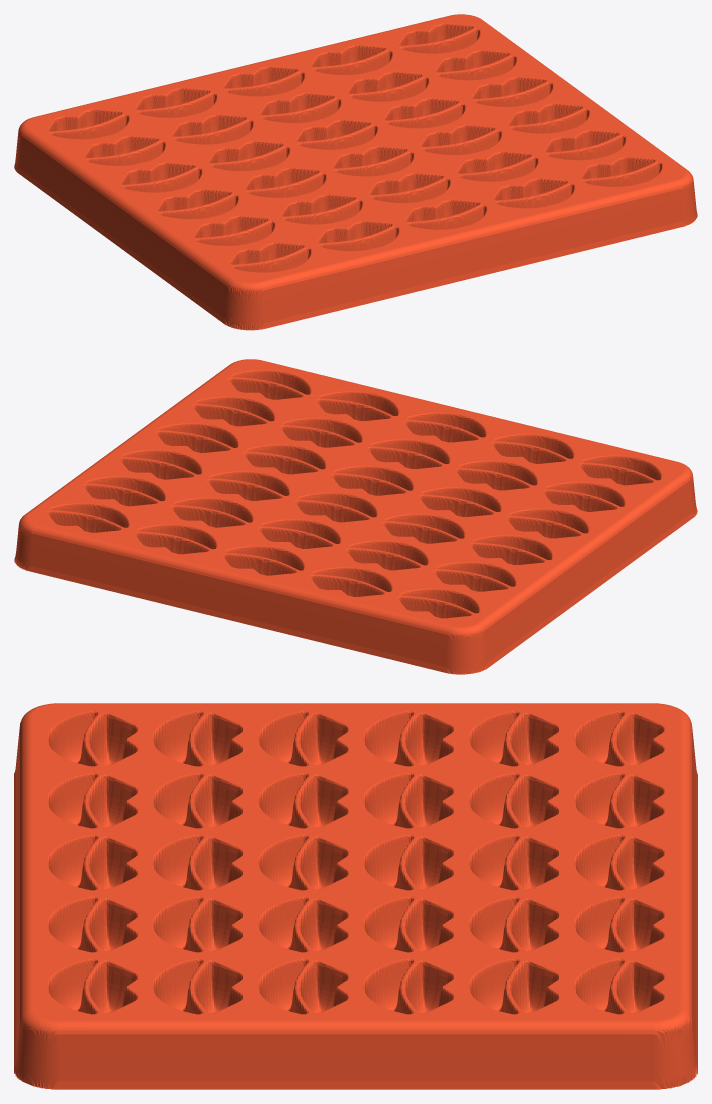
The model's file is mold.glb.
The picture shows the model from 3 angles, top to bottom: view 1: azimuth 30°, elevation 25°; view 2: azimuth 150°, elevation 25°; view 3: azimuth 270°, elevation 25°; orthographic projection. The views are drawn at different scales.
Visible parts, largest first — view 1: geometry_0; view 2: geometry_0; view 3: geometry_0.
Part boxes in pixels (x1,y1,x2,y2): geometry_0: (14, 14, 697, 330); geometry_0: (14, 359, 697, 674); geometry_0: (14, 703, 697, 1089).
Size of the model in its own units: 0.1581 by 0.0136 by 0.1378.
